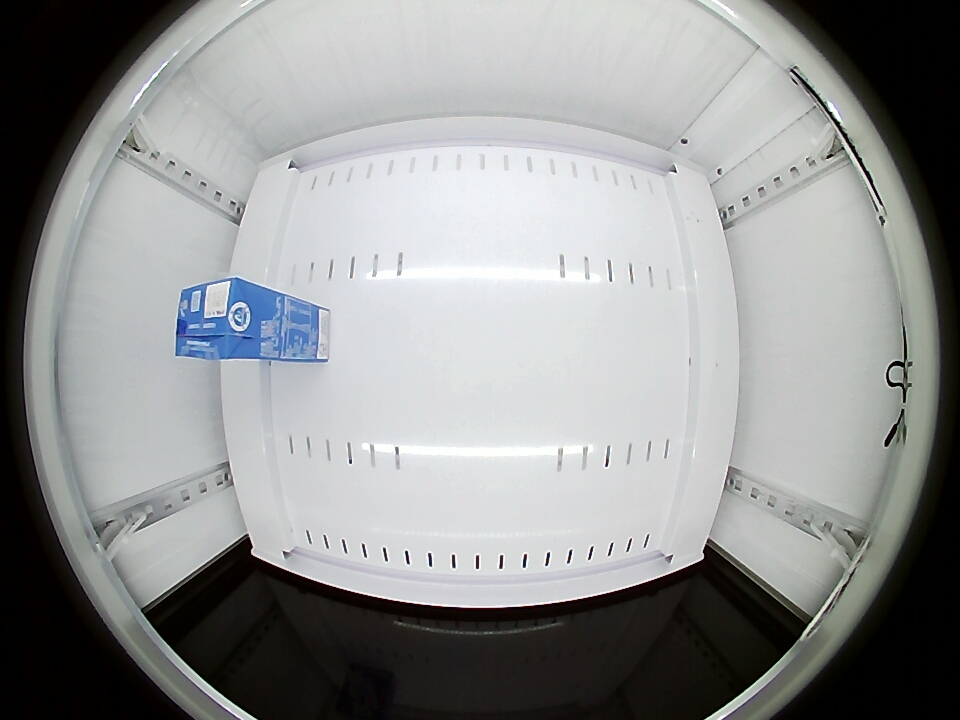weitanai: (175, 277, 272, 361)
